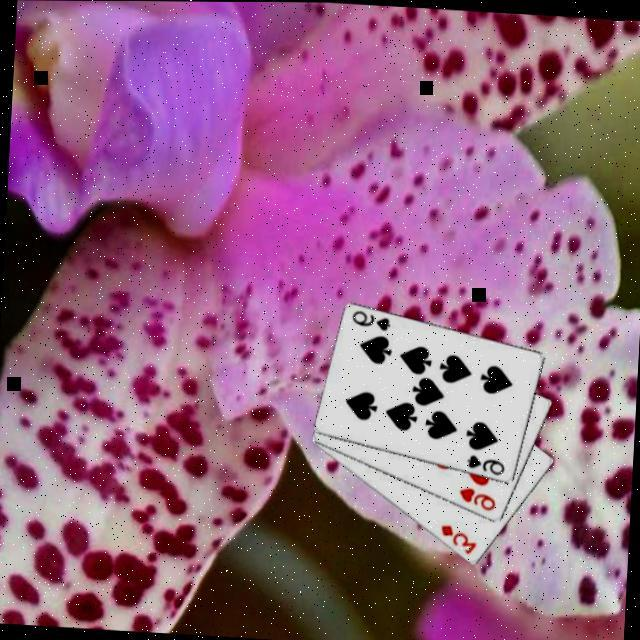3D: (437, 523, 481, 559)
9H: (456, 486, 499, 516)
9S: (350, 309, 394, 335), (464, 454, 508, 479)
